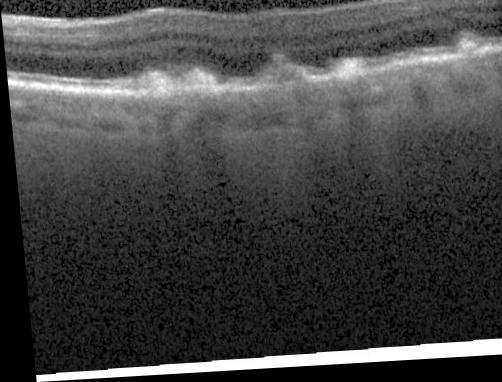retinal_drusen: (256, 56, 303, 87), (127, 72, 173, 93), (176, 69, 215, 90), (453, 36, 480, 57), (329, 61, 363, 76), (223, 80, 246, 91), (405, 55, 423, 63), (388, 61, 399, 67)
